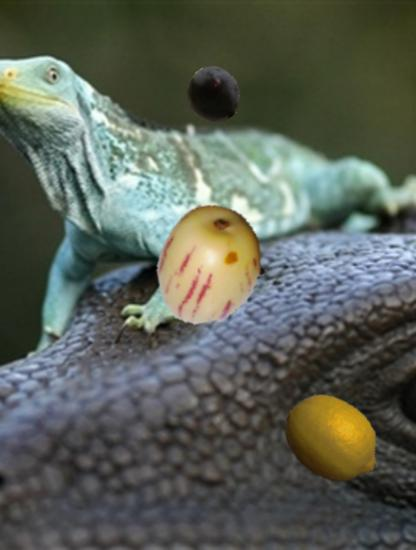Lemon: (282, 389, 383, 490)
Pepino: (151, 204, 270, 323)
Plum: (185, 66, 243, 124)
